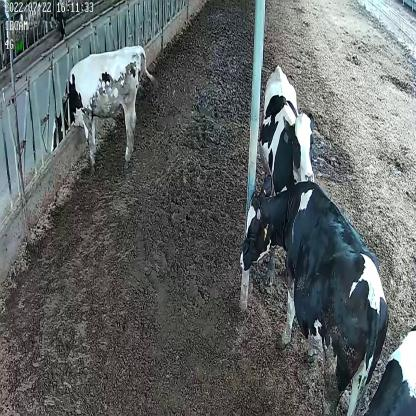cow: (240, 177, 388, 414), (51, 44, 154, 174), (258, 65, 317, 195)
